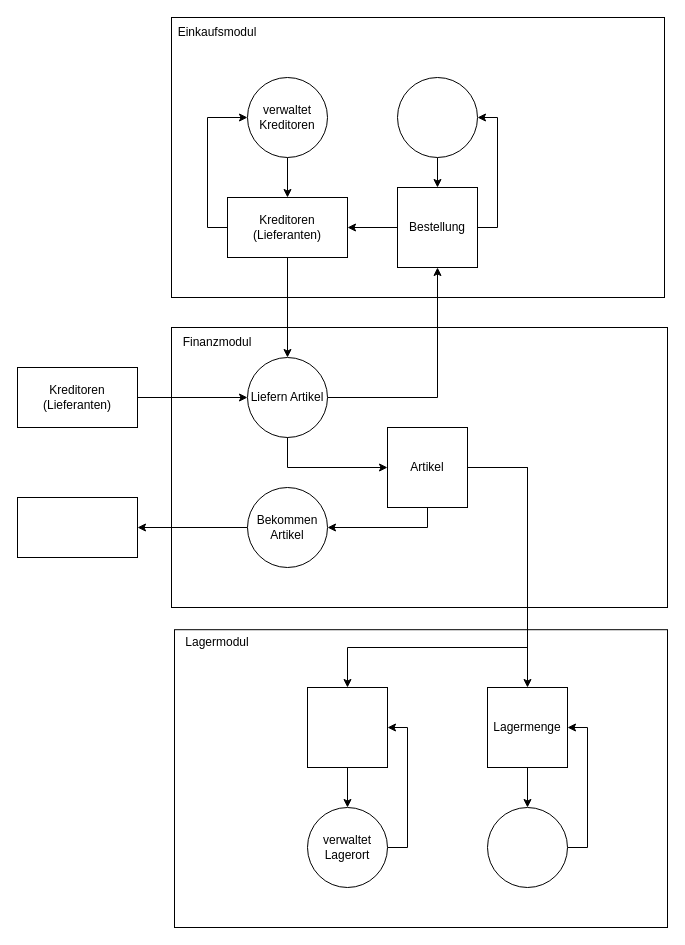
Image size: 685x945. Some labels were removed from this diagram. The centre of each missing label's shape, as x and y in pixels:
Debitoren (Kunden): the point at 77,527
Lagerort: the point at 347,727
verwaltet Bestellung: the point at 437,117
verwaltet stückzahl: the point at 527,847
